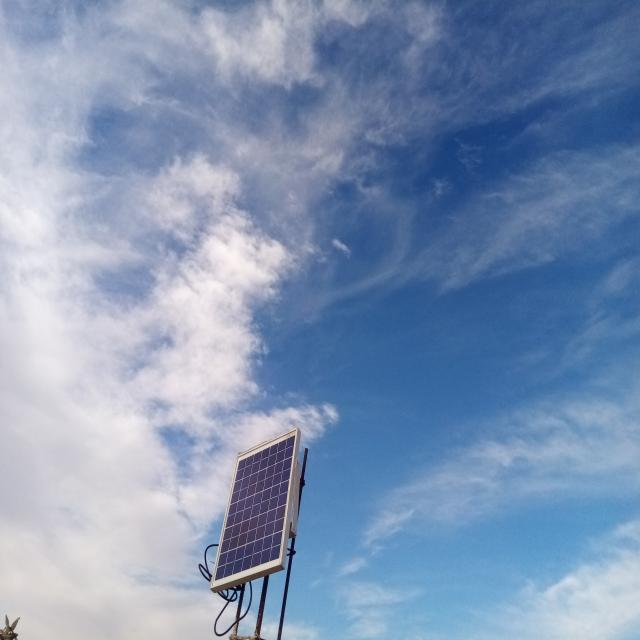no faulty: (211, 429, 298, 587)
